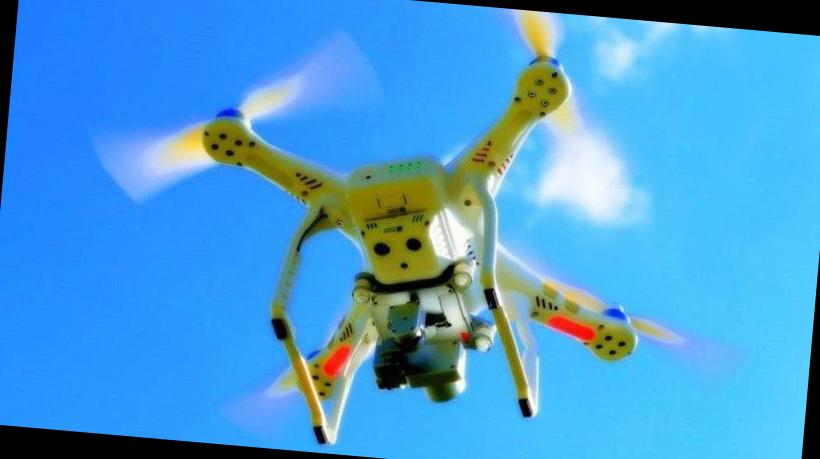drone: (95, 3, 682, 459)
